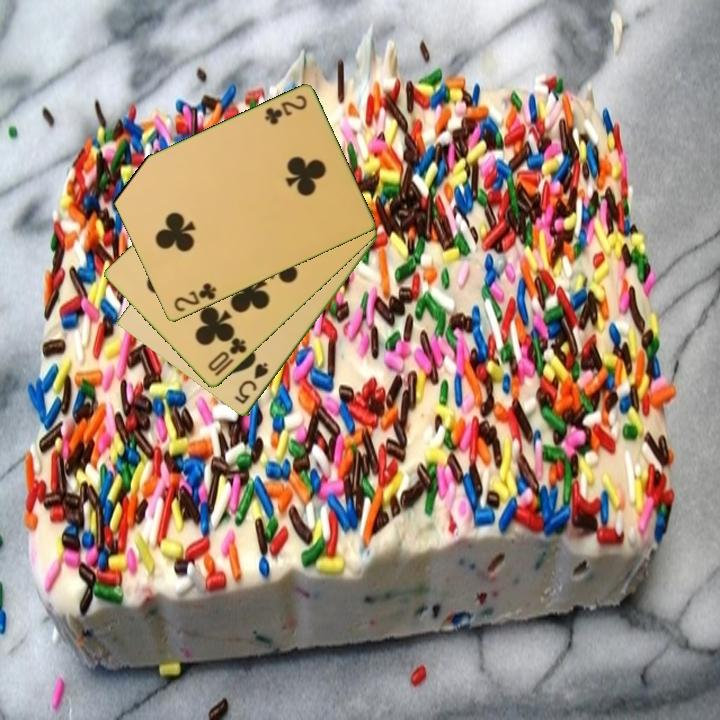10c: (204, 334, 250, 380)
2c: (170, 279, 219, 315), (261, 92, 310, 128)
5s: (231, 359, 272, 408)
